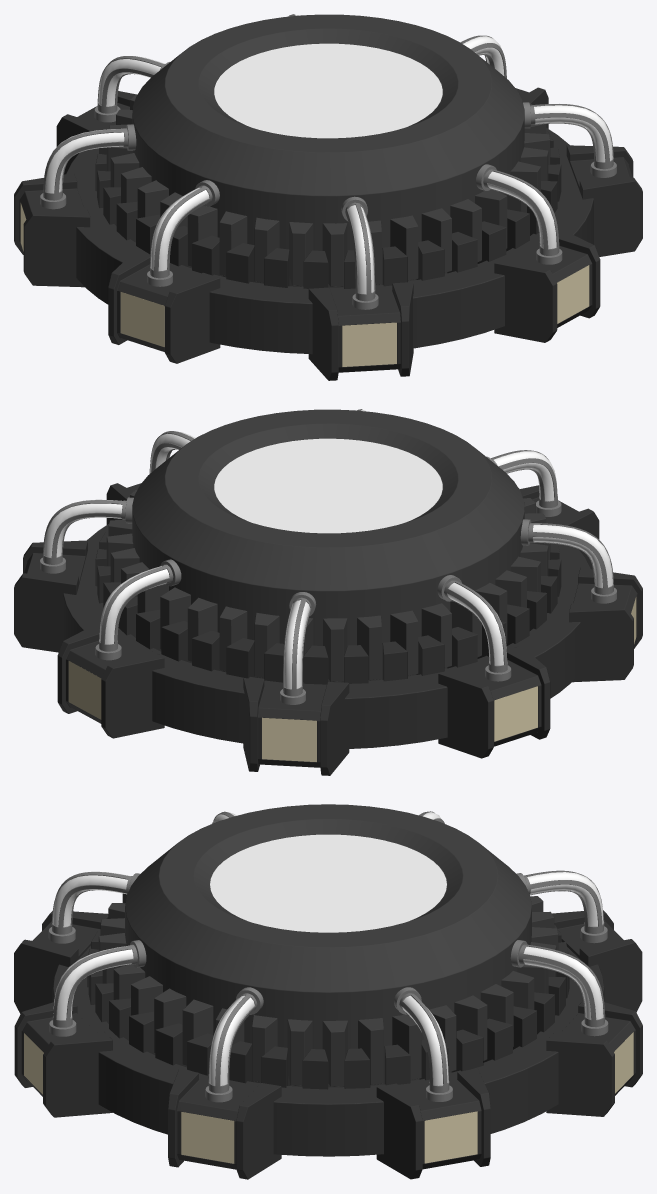
Rendered from postament.glb.
3 renders of one model, top to bottom at view 1: azimuth 30°, elevation 25°; view 2: azimuth 150°, elevation 25°; view 3: azimuth 270°, elevation 25°, orthographic. The views are drawn at different scales.
Visible parts, largest first — view 1: Cylinder.009, Cylinder.001, Cube.042, Cube.003, Cylinder.012, Cylinder.014, Cylinder.015, Cylinder.013, Cylinder.030, Cylinder.020, Cylinder.026, NurbsPath.008 (+13 smaller); view 2: Cylinder.009, Cylinder.001, Cube.042, Cube.003, Cylinder.015, Cylinder.017, Cylinder.014, Cylinder.016, Cylinder.030, Cylinder.018, Cylinder.026, NurbsPath.003 (+13 smaller); view 3: Cylinder.009, Cylinder.001, Cube.042, Cube.003, Cylinder.017, Cylinder.012, Cylinder.018, Cylinder.020, Cylinder.030, Cylinder.013, Cylinder.016, Cylinder.026 (+12 smaller).
Boxes of the visible parts, x1,y1,x2,y2 form: Cylinder.009: (132, 14, 524, 287); Cylinder.001: (66, 128, 593, 354); Cube.042: (106, 93, 550, 286); Cube.003: (95, 130, 561, 288); Cylinder.012: (494, 227, 600, 342); Cylinder.014: (108, 251, 220, 363); Cylinder.015: (14, 173, 90, 287); Cylinder.013: (308, 282, 413, 380); Cylinder.030: (20, 203, 589, 366); Cylinder.020: (566, 145, 642, 256); Cylinder.026: (40, 62, 616, 309); NurbsPath.008: (534, 105, 612, 162); Cylinder.009: (132, 409, 524, 682); Cylinder.001: (63, 519, 590, 749); Cube.042: (106, 488, 550, 681); Cube.003: (95, 532, 561, 684); Cylinder.015: (438, 645, 550, 758); Cylinder.017: (57, 623, 164, 738); Cylinder.014: (569, 567, 642, 682); Cylinder.016: (243, 678, 349, 775); Cylinder.030: (68, 597, 636, 761); Cylinder.018: (14, 540, 87, 652); Cylinder.026: (40, 456, 616, 704); NurbsPath.003: (533, 524, 612, 587); Cylinder.009: (125, 804, 531, 1087); Cylinder.001: (52, 946, 604, 1156); Cube.042: (98, 893, 558, 1086); Cube.003: (87, 925, 569, 1089); Cylinder.017: (546, 1000, 642, 1116); Cylinder.012: (14, 1002, 112, 1117); Cylinder.018: (376, 1068, 490, 1179); Cylinder.020: (168, 1069, 281, 1179); Cylinder.030: (24, 1032, 633, 1163); Cylinder.013: (14, 911, 108, 1013); Cylinder.016: (552, 910, 642, 1012); Cylinder.026: (48, 873, 608, 1102).
Bounding box in the file's own units: 6 × 1.84 × 6.
